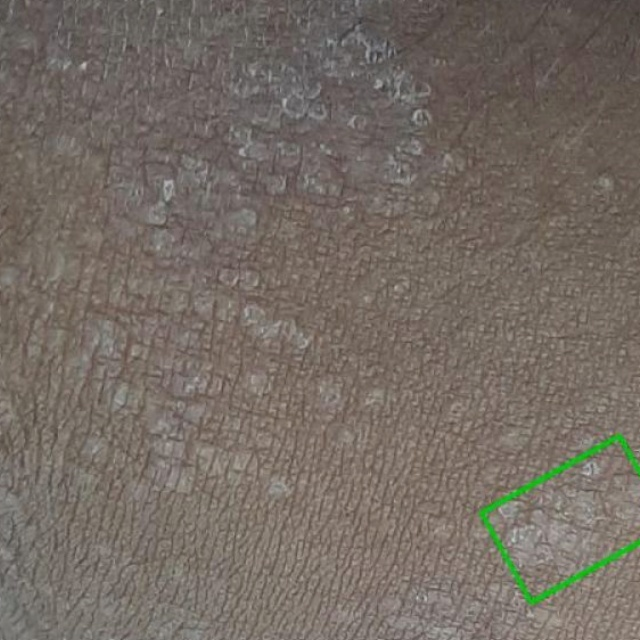Atopic Dermatitis: (482, 435, 639, 601)
